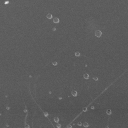corrosion: (94, 30, 103, 38), (45, 12, 53, 20), (83, 72, 90, 80), (70, 90, 78, 97), (53, 116, 60, 123), (105, 108, 112, 115), (52, 18, 60, 24), (51, 60, 58, 66), (74, 51, 81, 57), (82, 106, 88, 113), (83, 122, 90, 128), (92, 76, 99, 82), (42, 112, 49, 117), (77, 121, 82, 127), (51, 27, 57, 32), (90, 105, 95, 110), (4, 1, 10, 5), (58, 96, 62, 101)
